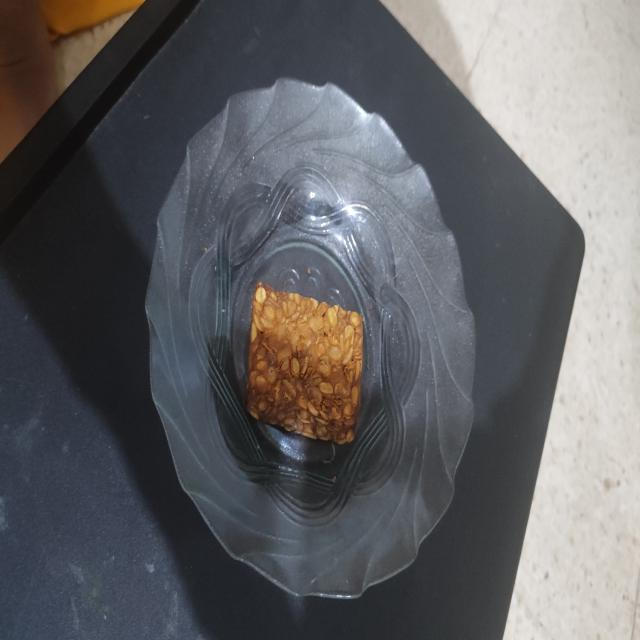tempe_goreng: (246, 283, 362, 444)
